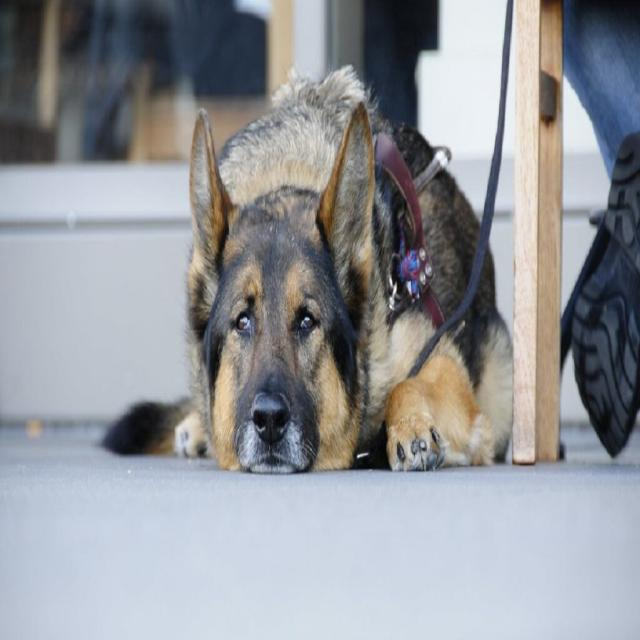GERMAN_SHEPHERD: (100, 33, 518, 491)
